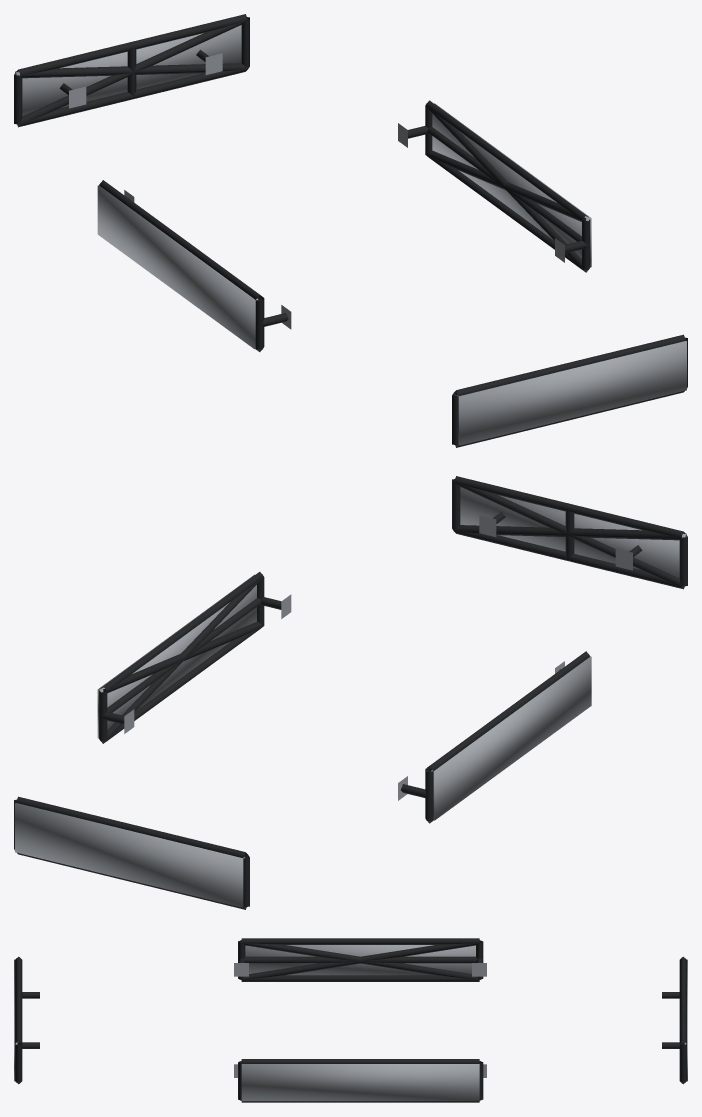
File: tridella_duna_protecao.glb
The picture shows the model from 3 angles, top to bottom: view 1: azimuth 30°, elevation 25°; view 2: azimuth 150°, elevation 25°; view 3: azimuth 270°, elevation 25°; orthographic projection. The views are drawn at different scales.
Visible parts, largest first — view 1: Protection_front_Level3_Details, Protection_left_Level3_Details, Protection_rear_Level1_Details, Protection_rear_Level3_Details, Protection_right_Level1_Details, Protection_rear_Level2_Details, Protection_right_Level2_Details, Protection_right_Level3_Details, Protection_front_Level1_Details, Protection_left_Level1_Details; view 2: Protection_rear_Level3_Details, Protection_left_Level3_Details, Protection_front_Level1_Details, Protection_front_Level3_Details, Protection_right_Level1_Details, Protection_front_Level2_Details, Protection_right_Level2_Details, Protection_right_Level3_Details, Protection_rear_Level1_Details, Protection_left_Level1_Details; view 3: Protection_right_Level3_Details, Protection_left_Level2_Details, Protection_left_Level1_Details, Protection_left_Level3_Details, Protection_right_Level1_Details, Protection_rear_Level1_Details, Protection_front_Level1_Details.
Part boxes in pixels (box(x1,y1,x2,y2)): Protection_front_Level3_Details: box(457, 341, 686, 445); Protection_left_Level3_Details: box(97, 185, 258, 349); Protection_rear_Level1_Details: box(14, 14, 249, 127); Protection_rear_Level3_Details: box(15, 25, 241, 116); Protection_right_Level1_Details: box(398, 100, 590, 272); Protection_rear_Level2_Details: box(16, 20, 247, 126); Protection_right_Level2_Details: box(425, 106, 589, 272); Protection_right_Level3_Details: box(432, 103, 591, 267); Protection_front_Level1_Details: box(452, 334, 687, 447); Protection_left_Level1_Details: box(99, 180, 291, 351); Protection_rear_Level3_Details: box(15, 803, 244, 907); Protection_left_Level3_Details: box(431, 656, 591, 820); Protection_front_Level1_Details: box(452, 476, 687, 589); Protection_front_Level3_Details: box(460, 487, 686, 578); Protection_right_Level1_Details: box(99, 572, 291, 743); Protection_front_Level2_Details: box(454, 482, 685, 588); Protection_right_Level2_Details: box(100, 577, 263, 743); Protection_right_Level3_Details: box(97, 574, 256, 738); Protection_rear_Level1_Details: box(14, 796, 249, 909); Protection_left_Level1_Details: box(398, 651, 590, 823); Protection_right_Level3_Details: box(241, 1064, 479, 1101); Protection_left_Level2_Details: box(241, 941, 479, 979); Protection_left_Level1_Details: box(234, 938, 486, 981); Protection_left_Level3_Details: box(245, 945, 475, 975); Protection_right_Level1_Details: box(234, 1059, 486, 1102); Protection_rear_Level1_Details: box(662, 956, 686, 1084); Protection_front_Level1_Details: box(15, 956, 39, 1084).
Bounding box in the file's own units: 2.16 × 0.354 × 4.93.
1 material, 1 textured.
